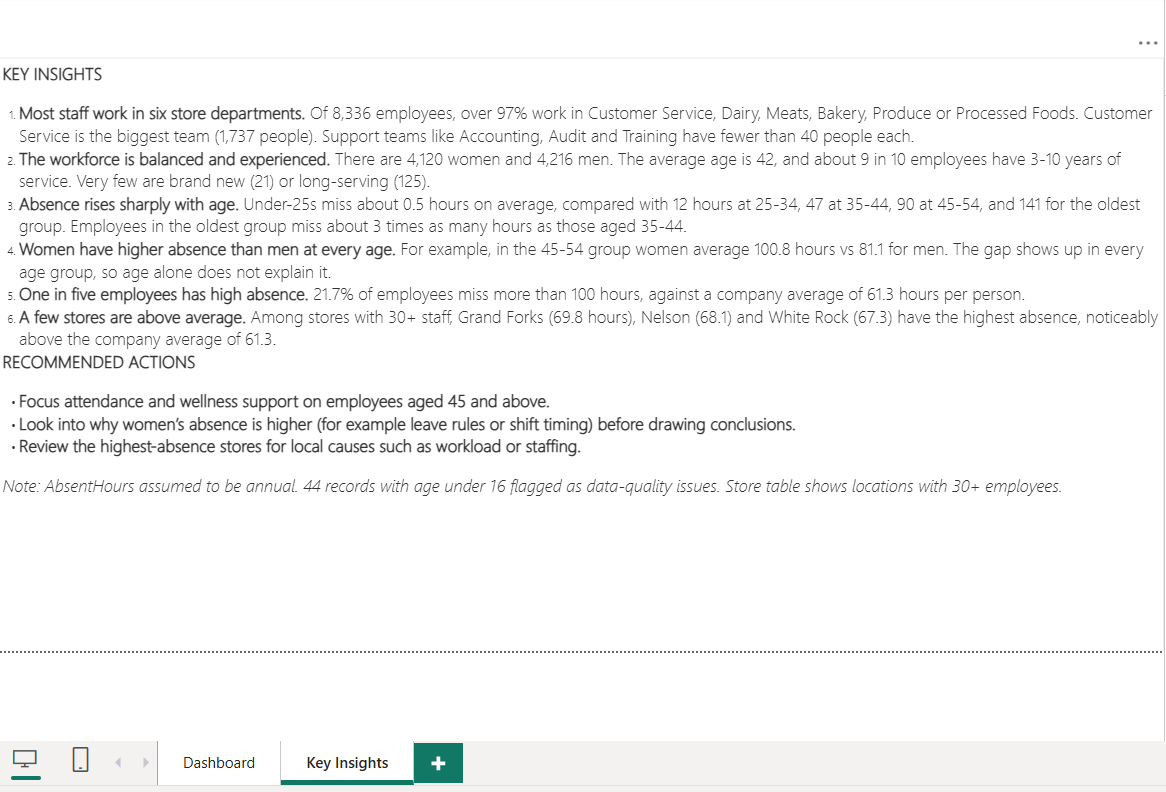

What the dashboard file says about the page in this screenshot:
{"tool":"powerbi","page":{"name":"Key Insights","canvas":[1280,720],"ordinal":1},"visuals":[{"type":"textbox","box":[0,68.6,1280.3,651.8],"z":0}]}

Visuals, with their boxes on the page's 1280x720 design canvas (x1, y1, x2, y2). These are canvas units, not pixel positions in the 1166x792 screenshot, which may show the page scaled, cropped or inside an application window:
textbox: [x1=0, y1=69, x2=1280, y2=720]
